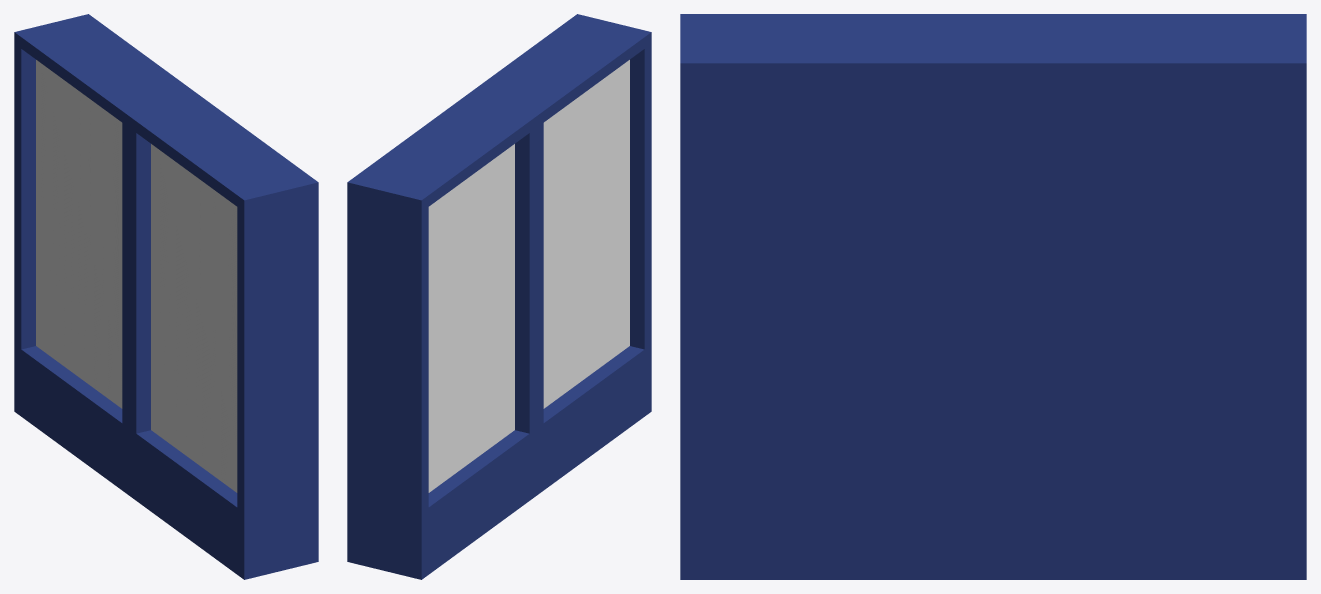
The model's file is ShowCase.glb.
3 renders of one model, left to right at view 1: azimuth 30°, elevation 25°; view 2: azimuth 150°, elevation 25°; view 3: azimuth 270°, elevation 25°, orthographic. The views are drawn at different scales.
Parts seen in each view (by area): view 1: Cube.052, Cube.053; view 2: Cube.052, Cube.053; view 3: Cube.052.
Part boxes in pixels (x1=…): Cube.052: x1=14, y1=14, x2=318, y2=579; Cube.053: x1=36, y1=60, x2=237, y2=492; Cube.052: x1=347, y1=14, x2=651, y2=579; Cube.053: x1=428, y1=60, x2=629, y2=492; Cube.052: x1=680, y1=14, x2=1306, y2=579.
Size of the model in its own units: 5.85 by 28.57 by 31.38.
